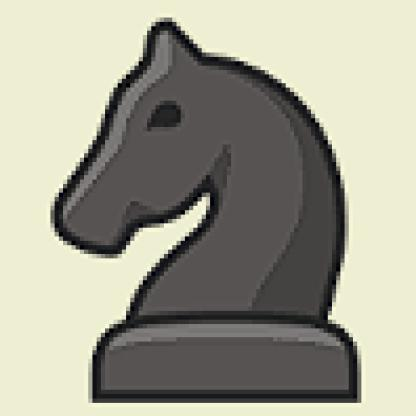Black Knight: (44, 19, 388, 411)
